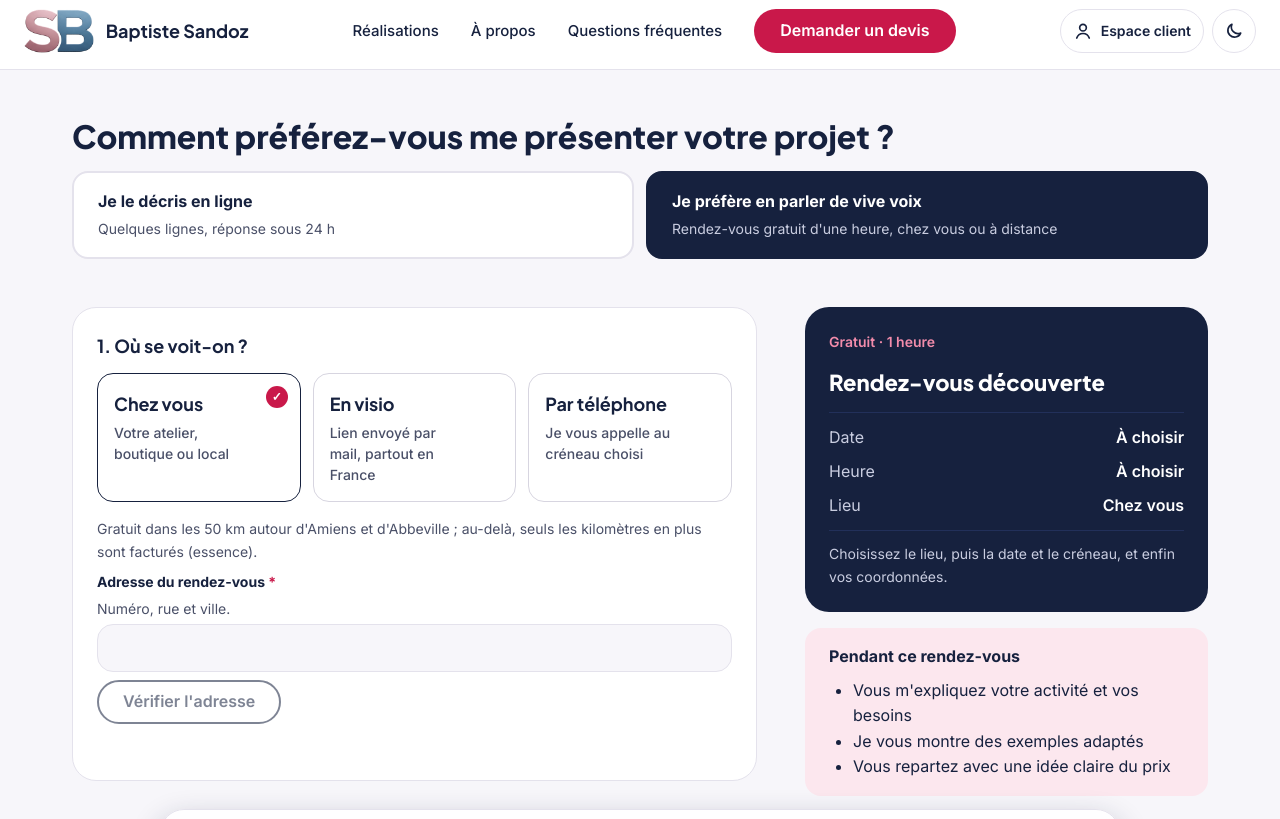
Test: Page Rendez-vous › explique ce qui manque avant de confirmer
The width and height of the screenshot is (1280, 819).
Click the radio button labelled "Par téléphone Je vous appelle au créneau choisi". click: click(630, 438)
box: x1=528 y1=373 x2=732 y2=502
(page scrolled)
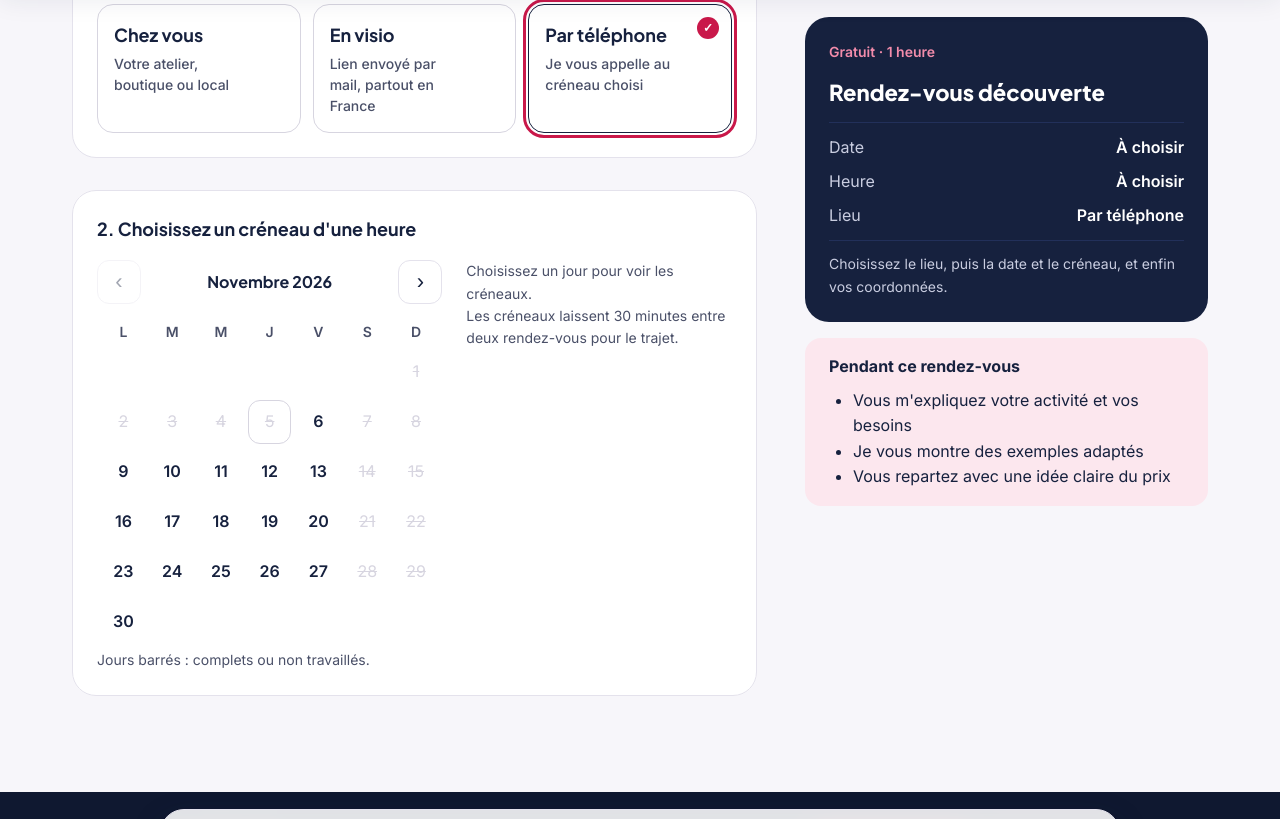
Click the button named "mardi 17 novembre 2026". click: click(172, 522)
box: x1=151 y1=500 x2=194 y2=544
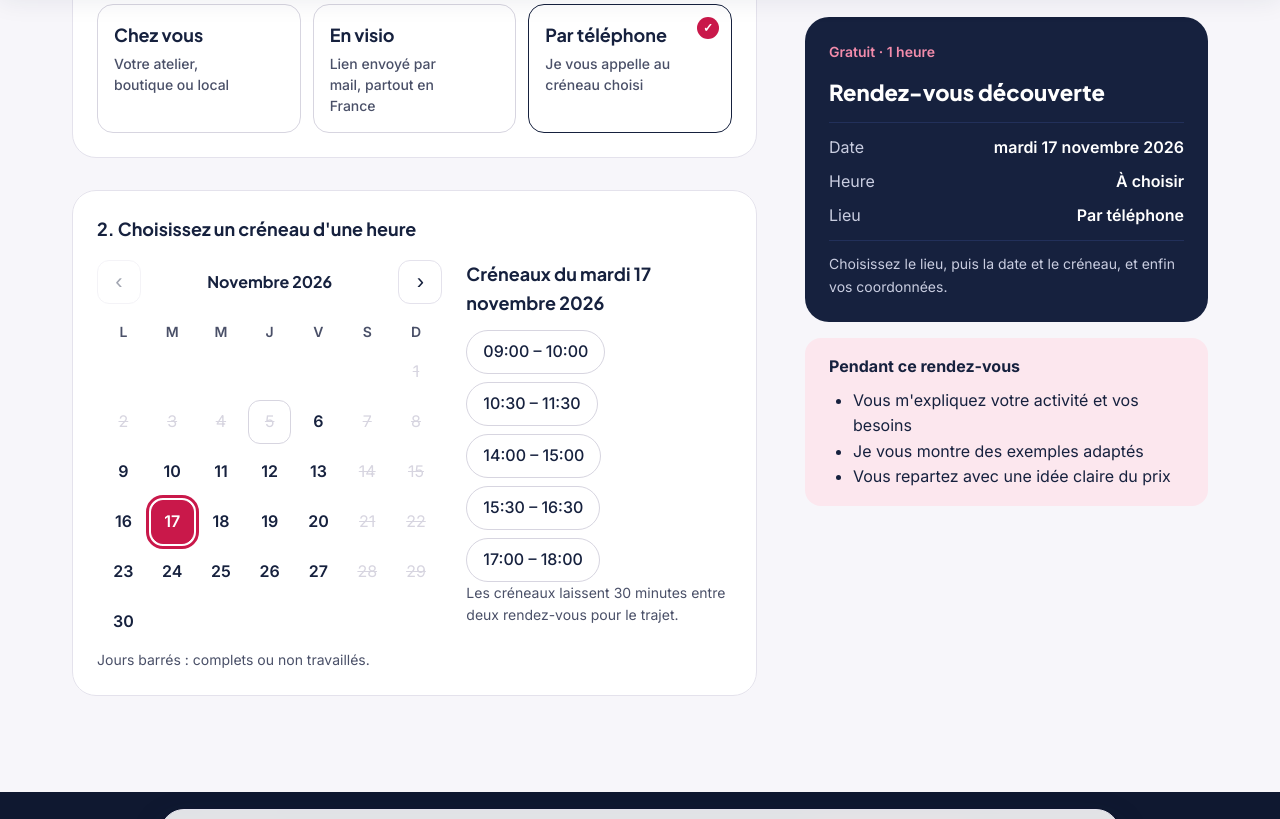
Click the radio button labelled "09:00 – 10:00". click: click(536, 352)
box: x1=466 y1=330 x2=605 y2=374
(page scrolled)
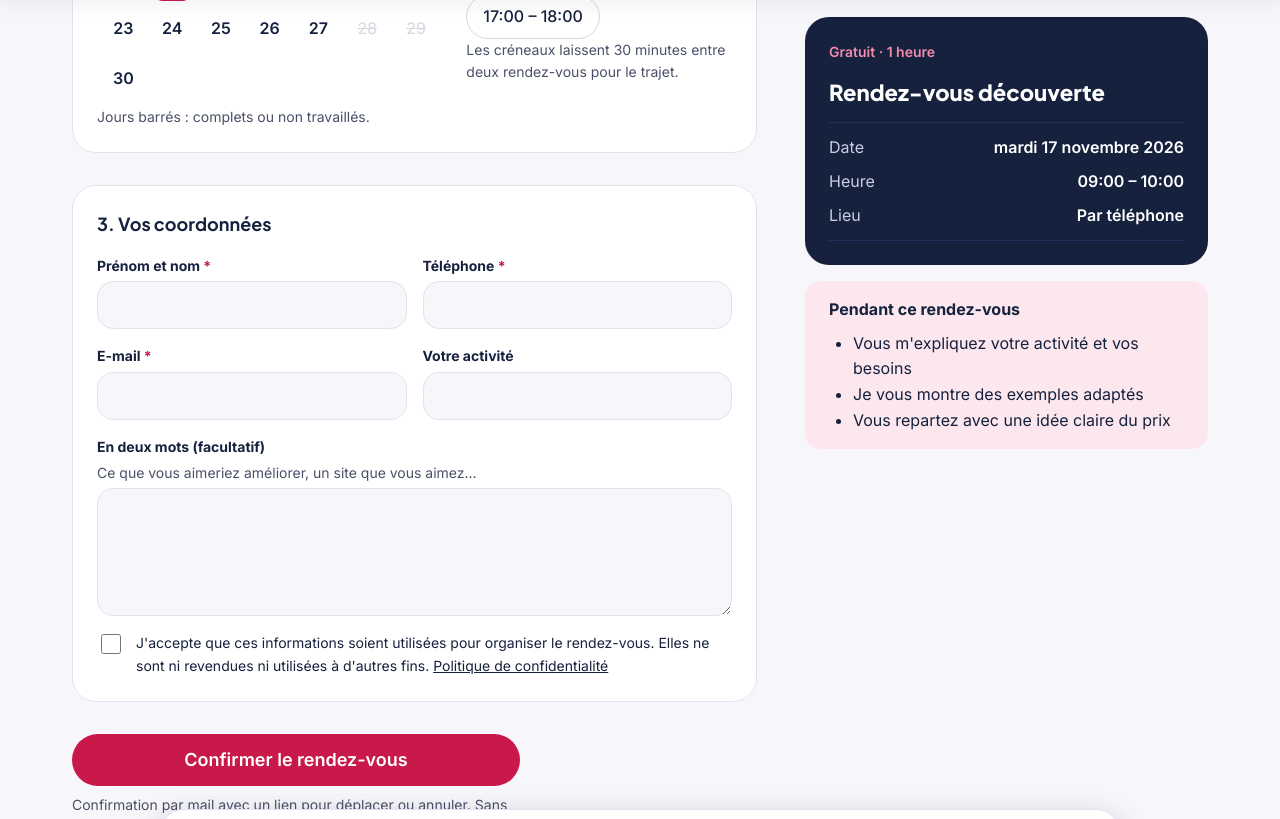
Click the button "Confirmer le rendez-vous". click: click(296, 760)
box: x1=72 y1=734 x2=520 y2=786
(page scrolled)
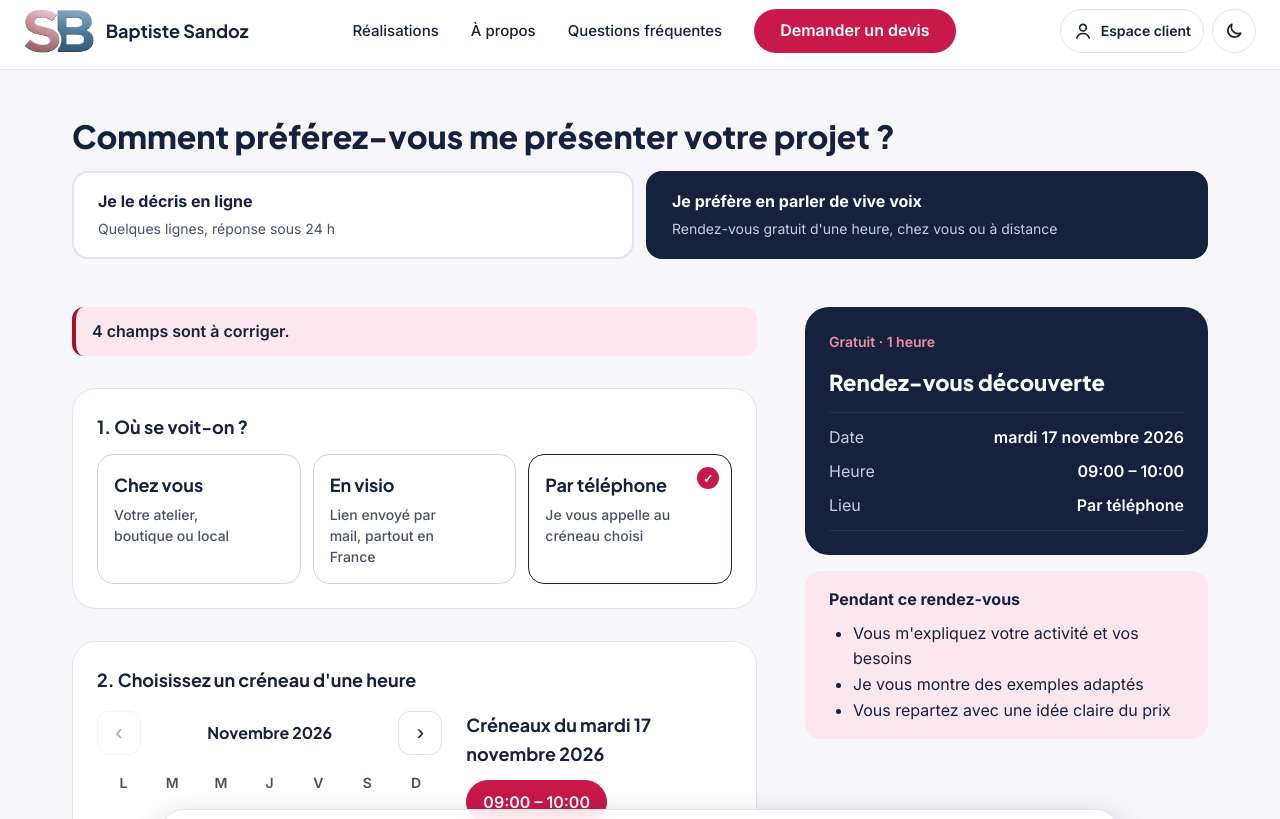
Expected: the message reads "4 champs sont à corriger.", x1=92 y1=321 x2=290 y2=341
